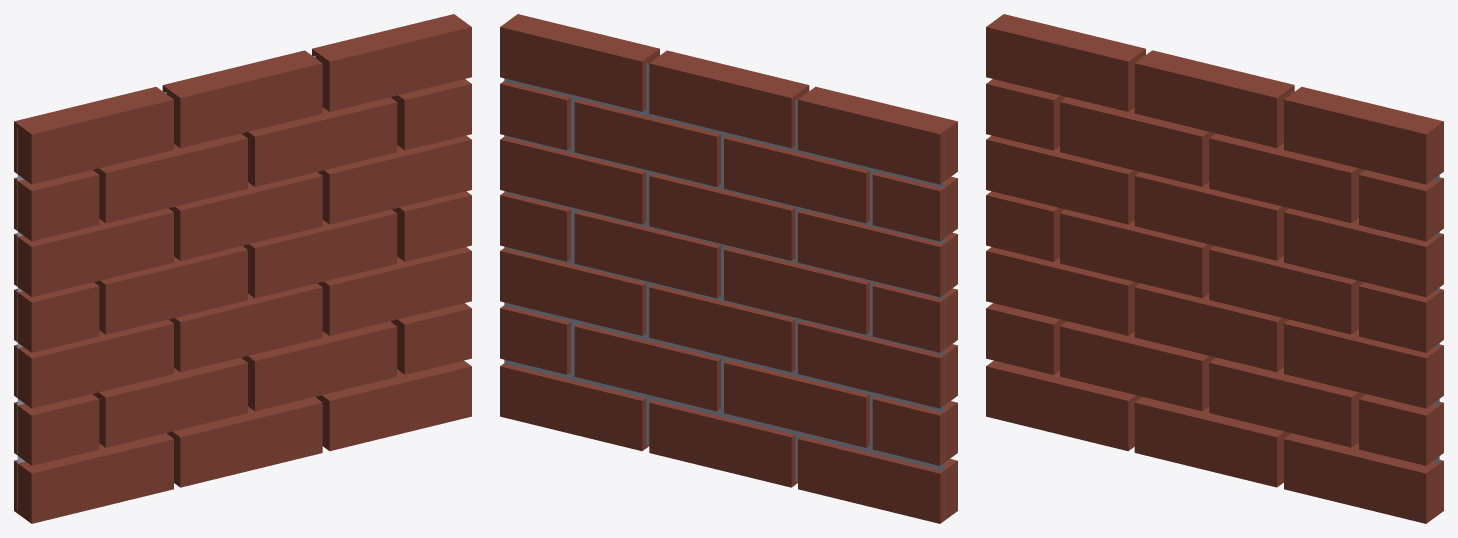
Rendered from muur.fbx.
3 renders of one model, left to right at view 1: azimuth 30°, elevation 25°; view 2: azimuth 150°, elevation 25°; view 3: azimuth 330°, elevation 25°, orthographic.
Visible parts, largest first — view 1: Cube, Plane; view 2: Cube, Plane; view 3: Cube.
Part boxes in pixels (box(x1,y1,x2,y2)): Cube: box(14, 14, 471, 523); Plane: box(17, 55, 398, 509); Cube: box(500, 14, 957, 523); Plane: box(504, 63, 944, 517); Cube: box(986, 14, 1443, 523).
Size of the model in its own units: 540 by 457 by 37.73.
